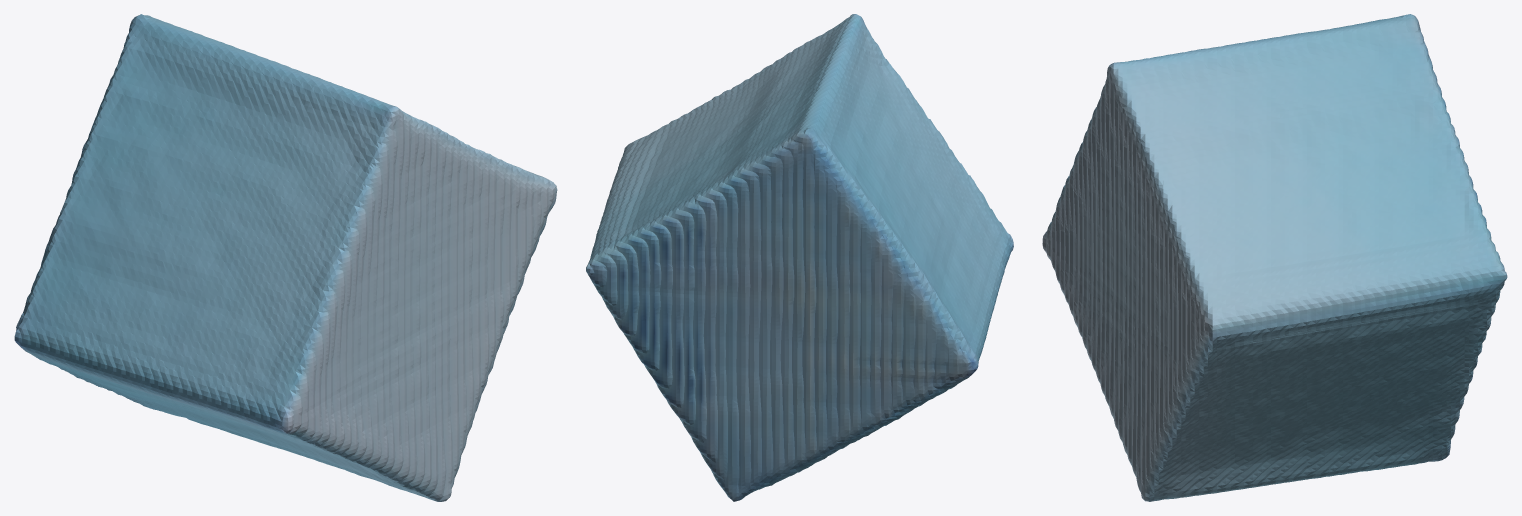
The model's file is actual-cube.glb.
3 renders of one model, left to right at view 1: azimuth 30°, elevation 25°; view 2: azimuth 150°, elevation 25°; view 3: azimuth 270°, elevation 25°, orthographic. The views are drawn at different scales.
Parts seen in each view (by area): view 1: world; view 2: world; view 3: world.
Boxes of the visible parts, left/top/right/bottom form: world: left=14, top=14, right=557, bottom=501; world: left=586, top=14, right=1013, bottom=501; world: left=1042, top=14, right=1507, bottom=501.
Size of the model in its own units: 0.7984 by 0.6929 by 0.7055.
